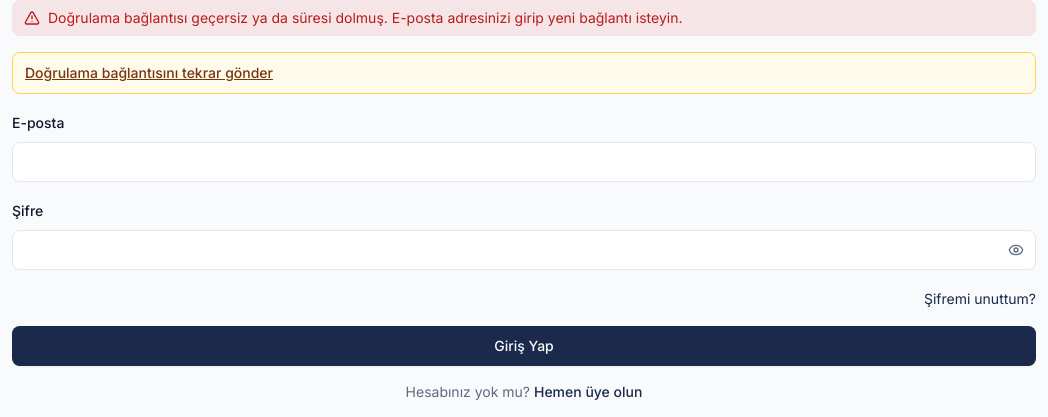
Test: A5 — giriş ekranı: bekleme dolunca 'tekrar gönder' düğmesi geri gelir › KONTROL: süre dolmadan (9 dk 59 sn) düğme GELMEZ — sunucunun sessiz penceresi içinde boşa istek attırılmaz
This screenshot has width=1048, height=417.
Expected: the text "Doğrulama bağlantısı geçersiz" is shown, [48,9,682,26]
Type "musa@ornek.com" into the field labelled "E-posta" at x=524, y=162, box [12,142,1036,182]
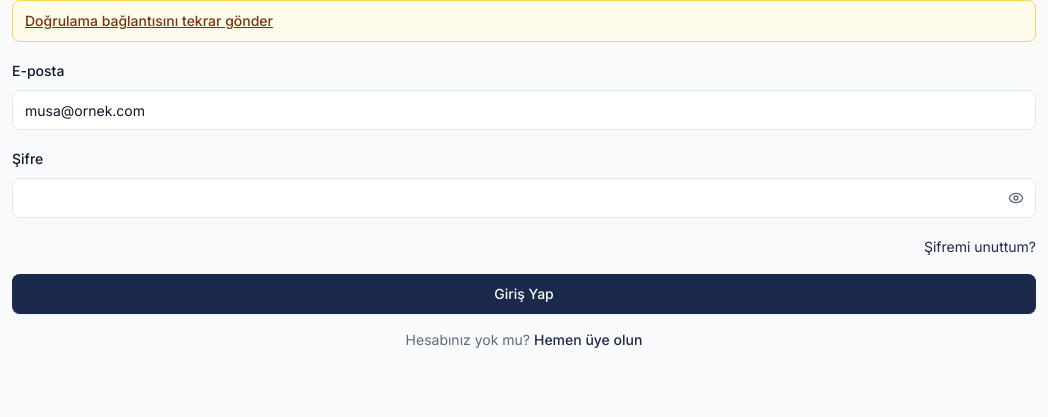
Click the button "Doğrulama bağlantısını tekrar gönder" at x=149, y=21, box [25,11,273,31]
Wait 599000 ms
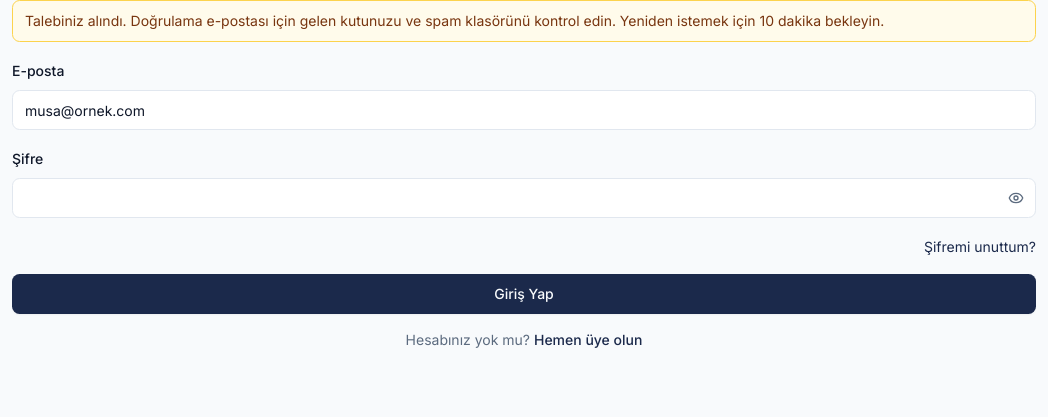
Now the button "tekrar gönder" is gone
Now the text "Talebiniz alındı. Doğrulama e-postası için gelen kutunuzu ve spam klasörünü kontrol edin. Yeniden istemek için 10 dakika" is shown, box [25,12,884,29]
